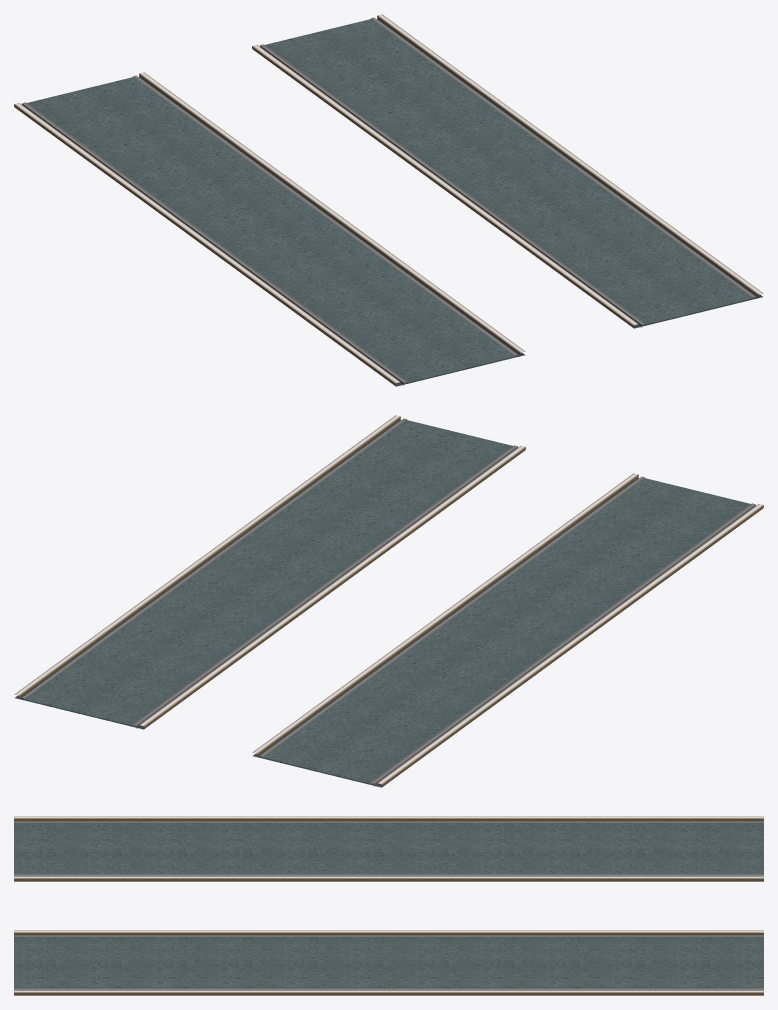
The model's file is K_RO_2RAIL25_ONLY.glb.
3 views of the same model, one above another, from view 1: azimuth 30°, elevation 25°; view 2: azimuth 150°, elevation 25°; view 3: azimuth 270°, elevation 25° (orthographic).
Visible parts, largest first — view 1: obj1; view 2: obj1; view 3: obj1.
Part boxes in pixels (box(x1,y1,x2,y2)): obj1: box(14, 14, 763, 386); obj1: box(14, 415, 763, 787); obj1: box(14, 816, 763, 995).
Bounding box in the file's own units: 13.93 × 0.1692 × 25.
2 materials, 2 textured.
